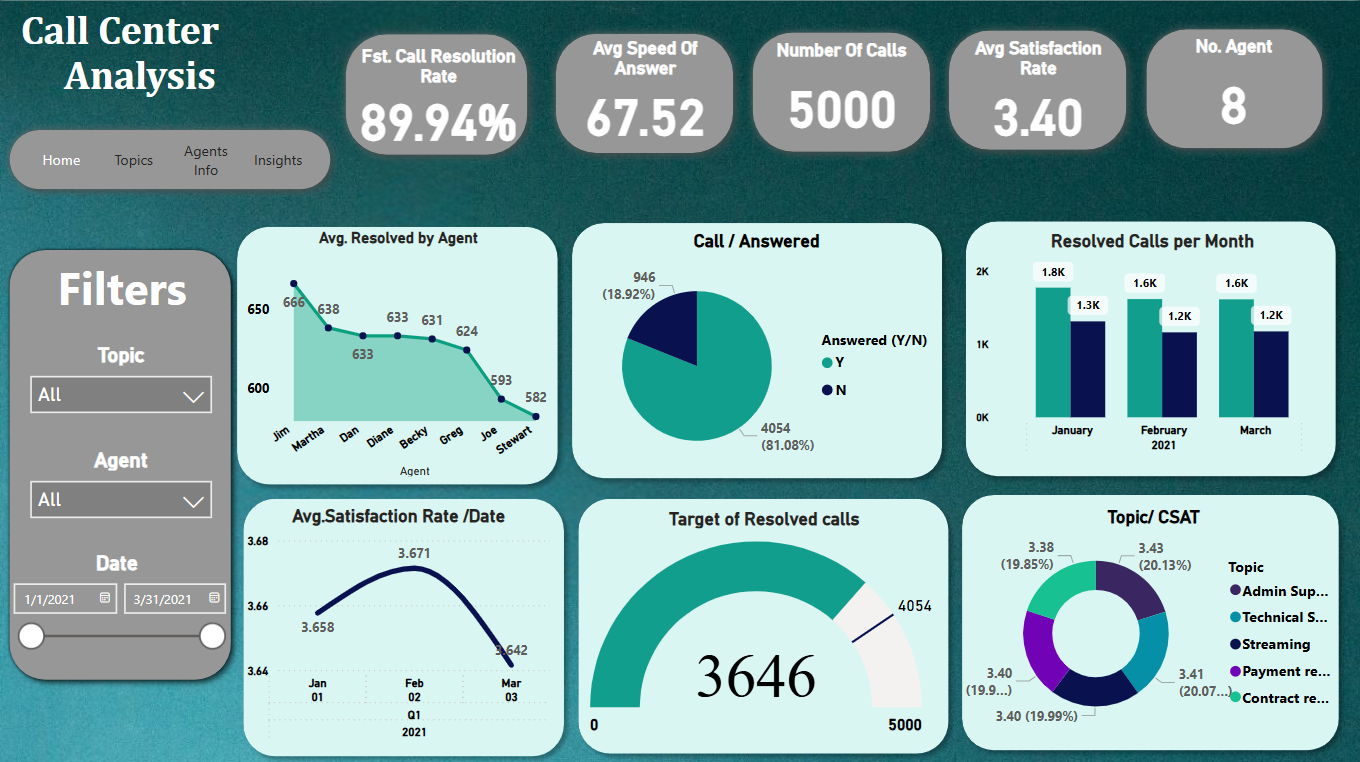

The page's visual inventory and layout, read from the dashboard file:
{"tool":"powerbi","page":{"name":"Home","canvas":[1280,720],"ordinal":0},"visuals":[{"type":"textbox","box":[0,0,233.8,117.5],"z":0},{"type":"shape","box":[529.4,200.1,366.3,258.1],"z":1000},{"type":"shape","box":[900.3,198.3,366.2,258],"z":2000},{"type":"shape","box":[896.4,456,372.6,258.3],"z":3000},{"type":"shape","box":[219.8,459.3,319.8,260.5],"z":4000},{"type":"shape","box":[884.1,19.1,184.9,130.2],"z":5000},{"type":"shape","box":[699.2,20.5,184.9,130.2],"z":6000},{"type":"shape","box":[514.3,21.9,184.9,130.2],"z":7000},{"type":"card","title":"Avg Speed Of Answer ","fields":{"Values":["Sheet1.ASA"]},"box":[532.9,33.8,148.8,102.3],"z":8000},{"type":"card","title":"Number Of Calls","fields":{"Values":["Sheet1.Call Id"]},"box":[717.8,36.1,148.8,102.3],"z":9000},{"type":"card","title":"Avg Satisfaction Rate","fields":{"Values":["Main.Satisfaction rating"]},"box":[902.7,33.8,148.8,102.3],"z":10000},{"type":"pieChart","title":" Call  / Answered","fields":{"Category":["Sheet1.Answered (Y/N)"],"Y":["Sheet1.Call Id"]},"box":[534.1,215.2,356.1,237.7],"z":11000},{"type":"shape","box":[535.4,459.2,366.4,258],"z":12000},{"type":"lineClusteredColumnComboChart","title":"Resolved Calls per Month","fields":{"Category":["dim_date.Date.Variation.Date Hierarchy.Year","dim_date.Date.Variation.Date Hierarchy.Month"],"Y":["Main.Call Id","Sheet1.Total Resolved Calls"]},"box":[913.8,215.2,342.5,219.7],"z":13000},{"type":"gauge","title":"Target of Resolved calls","fields":{"MaxValue":["Sheet1.Call Id"],"Y":["Main.Total Resolved Calls"],"TargetValue":["Main.Total Answered Calls"]},"box":[550.5,477,337.6,226.4],"z":14000},{"type":"shape","box":[0,225,226.2,422.5],"z":15000},{"type":"slicer","title":"Agent","fields":{"Values":["Sheet1.Agent"]},"box":[18.8,421.2,190,76.2],"z":16000},{"type":"slicer","title":"Topic","fields":{"Values":["Sheet1.Topic"]},"box":[18.8,322.5,190,76.2],"z":17000},{"type":"donutChart","title":" Topic/ CSAT","fields":{"Category":["Sheet1.Topic"],"Y":["Main.CSAT Score"]},"box":[902.4,475,366.7,221.4],"z":18000},{"type":"lineChart","title":"Avg.Satisfaction Rate /Date","fields":{"Category":["dim_date.New Hierarchy.Year","dim_date.New Hierarchy.Quarter","dim_date.New Hierarchy.Month NO.","dim_date.New Hierarchy.Month Name","dim_date.New Hierarchy.Day NO."],"Y":["Sheet1.Satisfaction rating"]},"box":[227.9,474.4,295.3,230.2],"z":19000},{"type":"shape","box":[214,203.5,319.8,260.5],"z":20000},{"type":"areaChart","title":"Avg. Resolved by Agent","fields":{"Category":["Sheet1.Agent"],"Y":["Sheet1.Resolved"]},"box":[227.5,215,295,237.5],"z":21000},{"type":"shape","box":[1069.8,17.7,183.8,130],"z":22000},{"type":"card","title":"No. Agent","fields":{"Values":["Sheet1.Agent"]},"box":[1087.3,31.5,148.8,102.5],"z":23000},{"type":"shape","box":[0,112.5,320,73.8],"z":24000},{"type":"pageNavigator","box":[28.8,123.8,262.5,50],"z":25000},{"type":"slicer","title":"Date","fields":{"Values":["dim_date.Date"]},"box":[0,517.5,220,108.8],"z":26000},{"type":"textbox","box":[48.8,235,160,76.2],"z":27000},{"type":"shape","box":[316.2,22.5,188.8,131.2],"z":28000},{"type":"card","title":"Fst. Call Resolution Rate","fields":{"Values":["Main.FCR Rate"]},"box":[332.5,41.2,161.2,97.5],"z":29000}]}

Visuals, with their boxes in screenshot pixels (x1, y1, x2, y2), scaled from the page's 1280x720 canvas onto the 1360x762 screenshot:
textbox: bbox=(0, 0, 248, 124)
shape: bbox=(562, 212, 952, 485)
shape: bbox=(957, 210, 1346, 483)
shape: bbox=(952, 483, 1348, 756)
shape: bbox=(234, 486, 573, 761)
shape: bbox=(939, 20, 1136, 158)
shape: bbox=(743, 22, 939, 159)
shape: bbox=(546, 23, 743, 161)
"Avg Speed Of Answer " card: bbox=(566, 36, 724, 144)
"Number Of Calls" card: bbox=(763, 38, 921, 146)
"Avg Satisfaction Rate" card: bbox=(959, 36, 1117, 144)
" Call  / Answered" pieChart: bbox=(567, 228, 946, 479)
shape: bbox=(569, 486, 958, 759)
"Resolved Calls per Month" lineClusteredColumnComboChart: bbox=(971, 228, 1335, 460)
"Target of Resolved calls" gauge: bbox=(585, 505, 944, 744)
shape: bbox=(0, 238, 240, 685)
"Agent" slicer: bbox=(20, 446, 222, 526)
"Topic" slicer: bbox=(20, 341, 222, 422)
" Topic/ CSAT" donutChart: bbox=(959, 503, 1348, 737)
"Avg.Satisfaction Rate /Date" lineChart: bbox=(242, 502, 556, 746)
shape: bbox=(227, 215, 567, 491)
"Avg. Resolved by Agent" areaChart: bbox=(242, 228, 555, 479)
shape: bbox=(1137, 19, 1332, 156)
"No. Agent" card: bbox=(1155, 33, 1313, 142)
shape: bbox=(0, 119, 340, 197)
pageNavigator: bbox=(31, 131, 310, 184)
"Date" slicer: bbox=(0, 548, 234, 663)
textbox: bbox=(52, 249, 222, 329)
shape: bbox=(336, 24, 537, 163)
"Fst. Call Resolution Rate" card: bbox=(353, 44, 525, 147)
